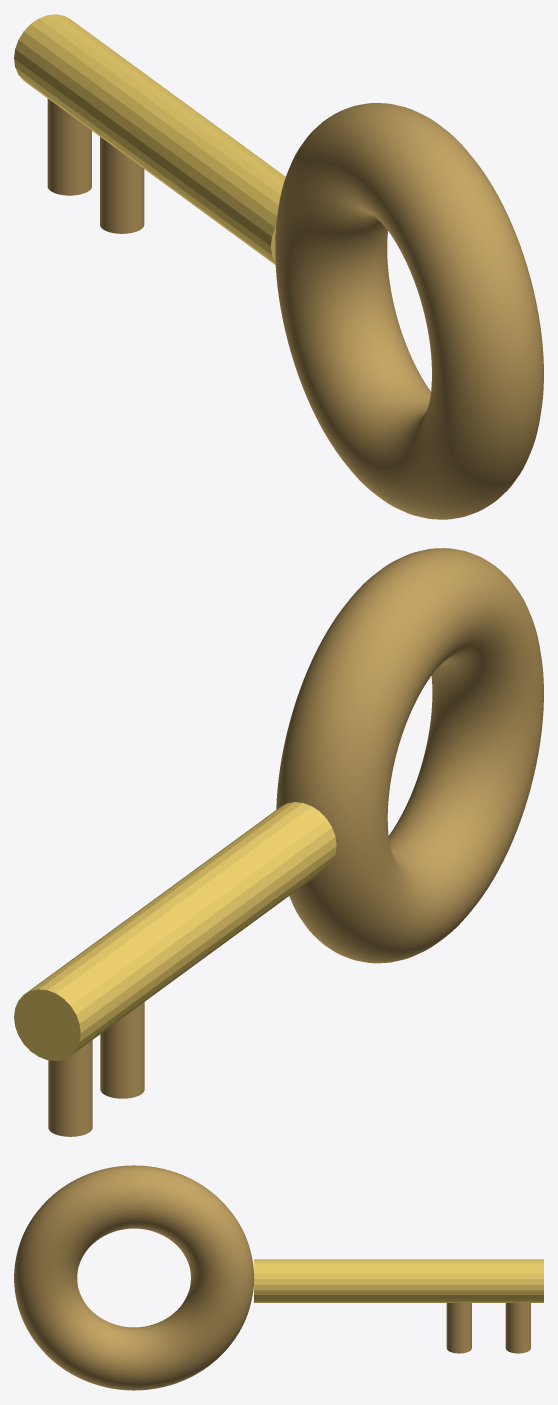
The model's file is Key.glb.
3 views of the same model, one above another, from view 1: azimuth 30°, elevation 25°; view 2: azimuth 150°, elevation 25°; view 3: azimuth 270°, elevation 25° (orthographic). The views are drawn at different scales.
Visible parts, largest first — view 1: Torus, Cylinder, Cylinder 2, Cylinder 1; view 2: Torus, Cylinder, Cylinder 2, Cylinder 1; view 3: Torus, Cylinder, Cylinder 1, Cylinder 2.
Boxes of the visible parts, left/top/right/bottom form: Torus: left=275, top=103, right=543, bottom=519; Cylinder: left=14, top=14, right=285, bottom=264; Cylinder 2: left=47, top=98, right=91, bottom=195; Cylinder 1: left=100, top=137, right=144, bottom=233; Torus: left=276, top=548, right=543, bottom=963; Cylinder: left=14, top=802, right=336, bottom=1060; Cylinder 2: left=48, top=1040, right=92, bottom=1136; Cylinder 1: left=100, top=1002, right=144, bottom=1098; Torus: left=14, top=1165, right=253, bottom=1390; Cylinder: left=254, top=1259, right=543, bottom=1302; Cylinder 1: left=446, top=1302, right=471, bottom=1353; Cylinder 2: left=505, top=1302, right=530, bottom=1353.
Bounding box in the file's own units: 0.1255 × 0.4488 × 0.9907.
3 materials, 1 textured.
